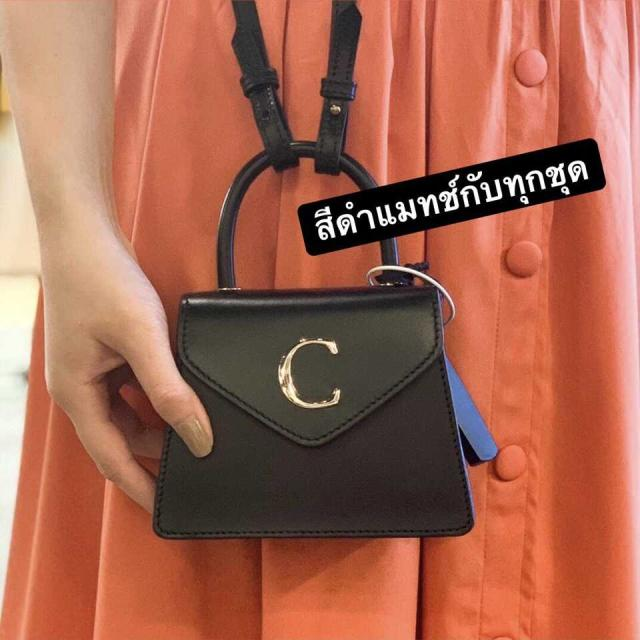handbag: (137, 252, 476, 562)
